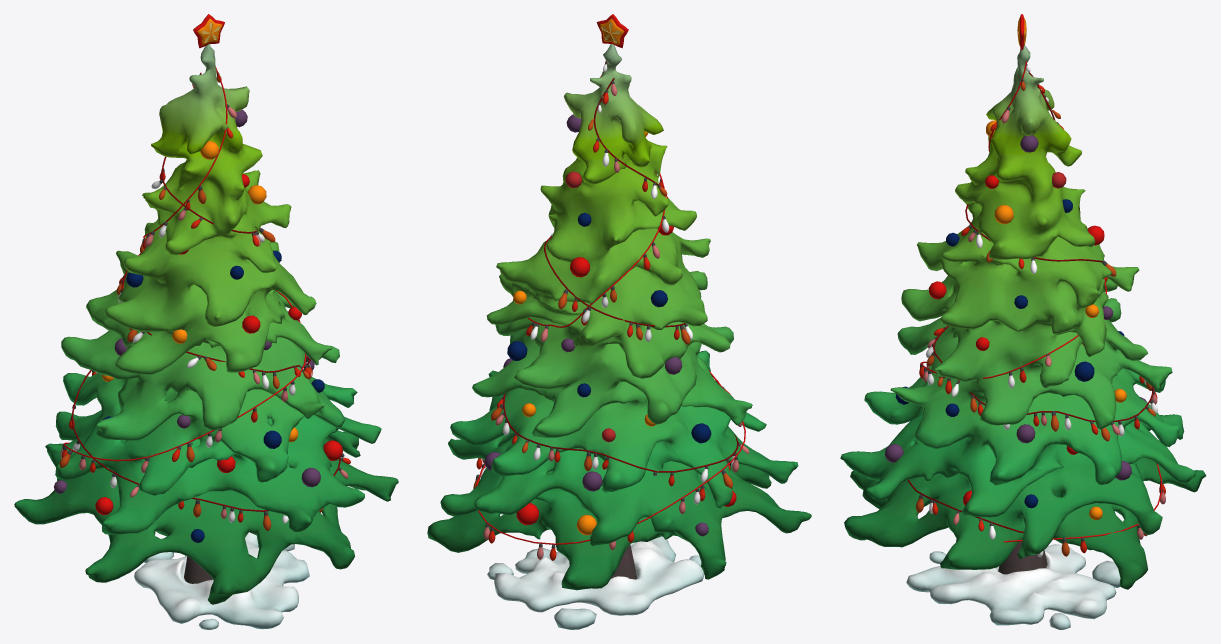
3 views of the same model, side by side, from view 1: azimuth 30°, elevation 25°; view 2: azimuth 150°, elevation 25°; view 3: azimuth 270°, elevation 25° (orthographic).
Parts seen in each view (by area): view 1: SM_tree_260_SM_tree_main, SM_tree_80_SM_tree_05, SM_tree_81_SM_tree_06, SM_tree_78_SM_tree_03, SM_tree_82_SM_tree_01, SM_tree_79_SM_tree_04, SM_tree_77_SM_tree_02; view 2: SM_tree_260_SM_tree_main, SM_tree_80_SM_tree_05, SM_tree_78_SM_tree_03, SM_tree_81_SM_tree_06, SM_tree_82_SM_tree_01, SM_tree_79_SM_tree_04, SM_tree_77_SM_tree_02; view 3: SM_tree_260_SM_tree_main, SM_tree_80_SM_tree_05, SM_tree_81_SM_tree_06, SM_tree_78_SM_tree_03, SM_tree_82_SM_tree_01, SM_tree_79_SM_tree_04.
Boxes of the visible parts, x1,y1,x2,y2 form: SM_tree_260_SM_tree_main: (14, 44, 398, 604); SM_tree_80_SM_tree_05: (134, 532, 309, 629); SM_tree_81_SM_tree_06: (54, 109, 342, 542); SM_tree_78_SM_tree_03: (59, 72, 350, 530); SM_tree_82_SM_tree_01: (71, 72, 340, 511); SM_tree_79_SM_tree_04: (63, 67, 306, 461); SM_tree_77_SM_tree_02: (193, 14, 224, 48); SM_tree_260_SM_tree_main: (427, 44, 811, 590); SM_tree_80_SM_tree_05: (487, 536, 704, 629); SM_tree_78_SM_tree_03: (473, 62, 749, 560); SM_tree_81_SM_tree_06: (484, 114, 736, 536); SM_tree_82_SM_tree_01: (503, 78, 738, 472); SM_tree_79_SM_tree_04: (476, 61, 745, 544); SM_tree_77_SM_tree_02: (596, 14, 628, 48); SM_tree_260_SM_tree_main: (840, 45, 1206, 589); SM_tree_80_SM_tree_05: (906, 544, 1120, 629); SM_tree_81_SM_tree_06: (885, 120, 1147, 520); SM_tree_78_SM_tree_03: (902, 64, 1165, 557); SM_tree_82_SM_tree_01: (908, 72, 1153, 533); SM_tree_79_SM_tree_04: (920, 61, 1162, 542).
Size of the model in its own units: 7.35 by 12.73 by 7.37.
